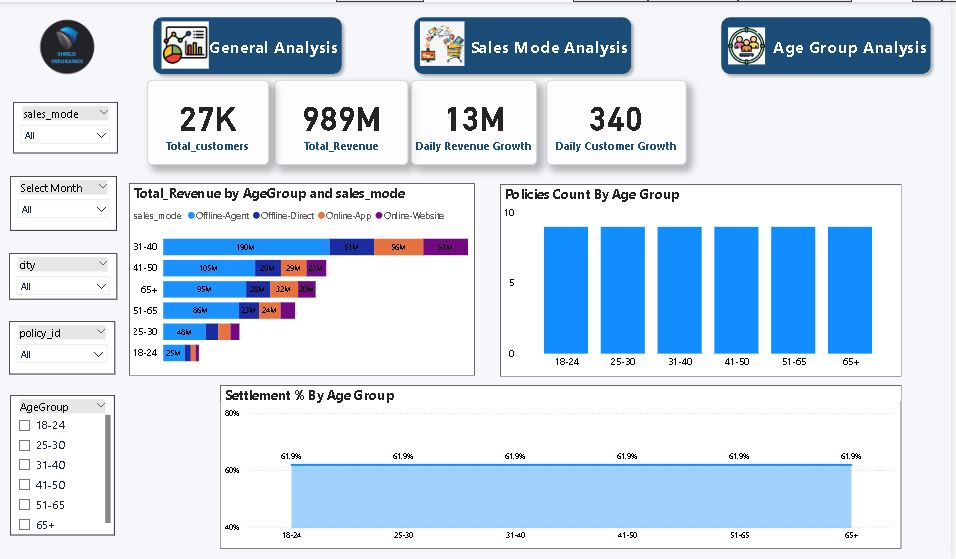

What the dashboard file says about the page in this screenshot:
{"tool":"powerbi","page":{"name":"AGE GROUP ANALYSIS","canvas":[1392,815],"ordinal":2},"visuals":[{"type":"card","fields":{"Values":["dim_customer.Total_Revenue"]},"box":[402.7,113.9,195.7,123.5],"z":0},{"type":"card","fields":{"Values":["dim_customer.Total_customers"]},"box":[218.2,113.9,178.1,123.5],"z":1000},{"type":"card","fields":{"Values":["dim_customer.Daily Customers Growth"]},"box":[800.6,113.9,205.4,123.5],"z":2000},{"type":"card","fields":{"Values":["dim_customer.Daily Revenue Growth"]},"box":[603.2,113.9,184.5,123.5],"z":3000},{"type":"slicer","fields":{"Values":["dim_date.mmm_yy"]},"box":[17.9,254.3,156.5,79.9],"z":4000},{"type":"slicer","fields":{"Values":["dim_customer.city"]},"box":[16.3,366.8,158.1,68.5],"z":5000},{"type":"slicer","fields":{"Values":["fact_premiums.AgeGroup"]},"box":[17.9,573.8,153.2,205.4],"z":6000},{"type":"slicer","fields":{"Values":["fact_premiums.sales_mode"]},"box":[21.2,146.7,153.2,75],"z":7000},{"type":"slicer","fields":{"Values":["dim_policies.policy_id"]},"box":[16.3,466.2,154.8,78.2],"z":8000},{"type":"image","box":[16,17.6,170.1,96.3],"z":10000},{"type":"shape","box":[218.2,12.8,293.6,101.1],"z":11000},{"type":"shape","box":[598.4,12.8,335.3,101.1],"z":12000},{"type":"shape","box":[1047.6,12.8,324.1,101.1],"z":13000},{"type":"image","box":[208.6,24.1,128.3,78.6],"z":14000},{"type":"image","box":[580.8,24.1,134.8,75.4],"z":15000},{"type":"image","box":[1005.9,32.1,173.3,64.2],"z":16000},{"type":"barChart","fields":{"Category":["fact_premiums.AgeGroup"],"Y":["dim_customer.Total_Revenue"],"Series":["fact_premiums.sales_mode"]},"box":[190.9,264.7,505.4,280.8],"z":17000},{"type":"columnChart","title":"Policies Count By Age Group","fields":{"Category":["fact_premiums.AgeGroup"],"Y":["fact_premiums.Total Policies Sold"]},"box":[733.2,266.3,585.6,280.8],"z":18000},{"type":"lineChart","title":"Settlement % By Age Group","fields":{"Category":["fact_premiums.AgeGroup"],"Y":["Avg(fact_settlements.settlement %)"]},"box":[324.1,559.9,994.7,239],"z":19000}]}

Visuals, with their boxes in screenshot pixels (x1, y1, x2, y2), scaled from the page's 1392x815 canvas onto the 956x559 screenshot:
card - dim_customer.Total_Revenue: Rect(277, 78, 411, 163)
card - dim_customer.Total_customers: Rect(150, 78, 272, 163)
card - dim_customer.Daily Customers Growth: Rect(550, 78, 691, 163)
card - dim_customer.Daily Revenue Growth: Rect(414, 78, 541, 163)
slicer - dim_date.mmm_yy: Rect(12, 174, 120, 229)
slicer - dim_customer.city: Rect(11, 252, 120, 299)
slicer - fact_premiums.AgeGroup: Rect(12, 394, 118, 534)
slicer - fact_premiums.sales_mode: Rect(15, 101, 120, 152)
slicer - dim_policies.policy_id: Rect(11, 320, 118, 373)
image: Rect(11, 12, 128, 78)
shape: Rect(150, 9, 351, 78)
shape: Rect(411, 9, 641, 78)
shape: Rect(719, 9, 942, 78)
image: Rect(143, 17, 231, 70)
image: Rect(399, 17, 491, 68)
image: Rect(691, 22, 810, 66)
barChart - fact_premiums.AgeGroup x dim_customer.Total_Revenue: Rect(131, 182, 478, 374)
"Policies Count By Age Group" columnChart: Rect(504, 183, 906, 375)
"Settlement % By Age Group" lineChart: Rect(223, 384, 906, 548)
